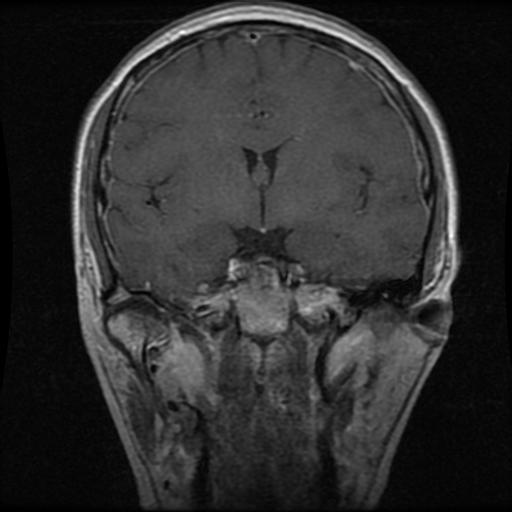Pituirity_tumour: (227, 259, 279, 283)
